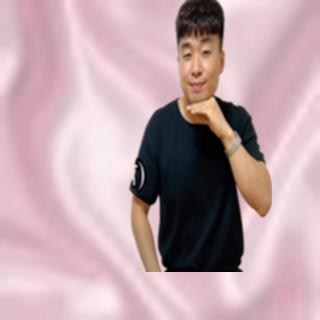Wait: (182, 94, 230, 137)
